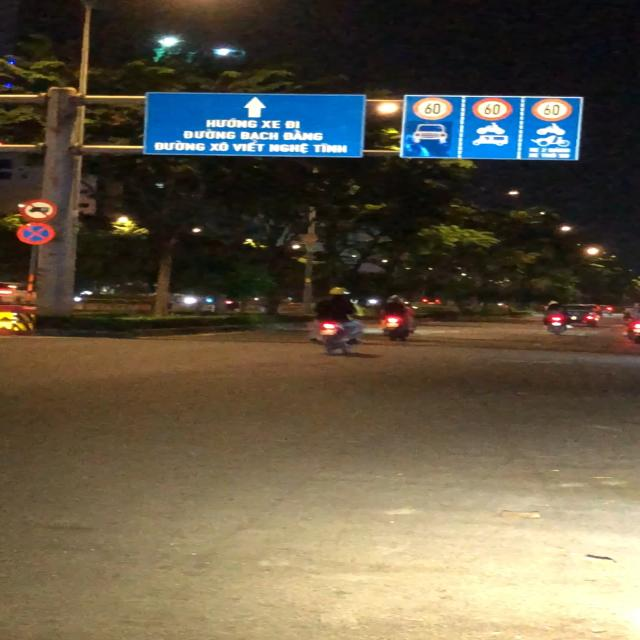Bien bao cam dung xe va do xe: (16, 221, 58, 245)
Bien bao cam xe oto tai: (18, 198, 59, 222)
